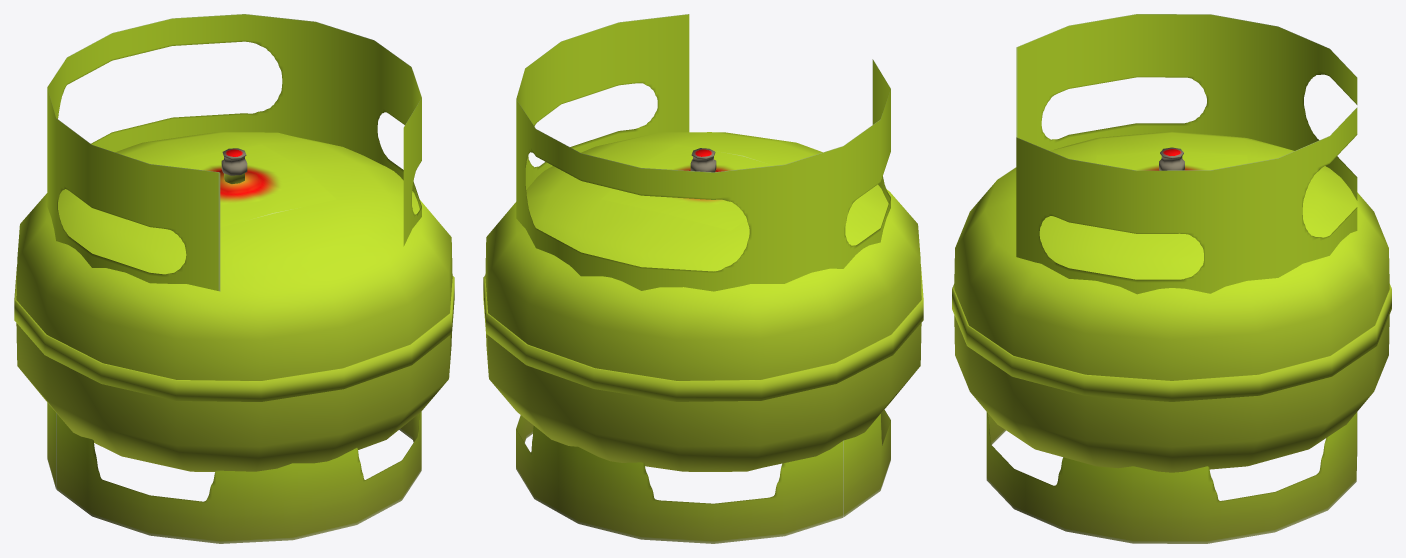
The model's file is GassLPG.fbx.
The picture shows the model from 3 angles, left to right: view 1: azimuth 30°, elevation 25°; view 2: azimuth 150°, elevation 25°; view 3: azimuth 270°, elevation 25°; orthographic projection.
Visible parts, largest first — view 1: GasLPG_LOD0; view 2: GasLPG_LOD0; view 3: GasLPG_LOD0.
Boxes of the visible parts, x1,y1,x2,y2 form: GasLPG_LOD0: [14, 14, 454, 543]; GasLPG_LOD0: [483, 14, 923, 543]; GasLPG_LOD0: [952, 14, 1391, 543].
Size of what is drawn, in the model's own units: 49.65 by 46.49 by 49.65.
